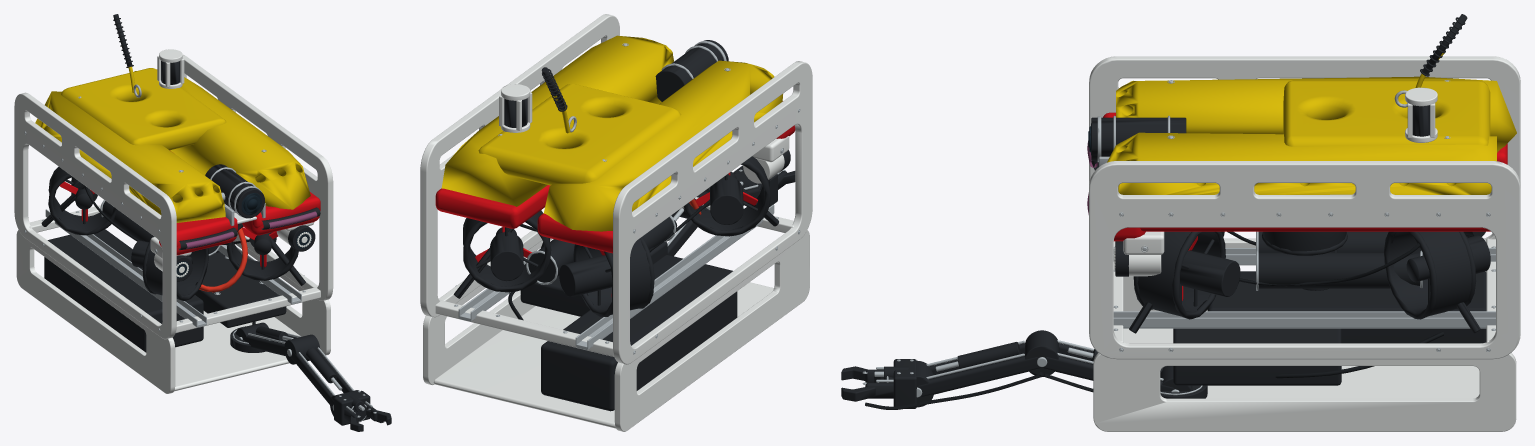
The model's file is falcon_lod1.glb.
3 views of the same model, side by side, from view 1: azimuth 30°, elevation 25°; view 2: azimuth 150°, elevation 25°; view 3: azimuth 270°, elevation 25° (orthographic). The views are drawn at different scales.
Visible parts, largest first — view 1: PP side frame.001, Buoyancy rear bridge, Sculpted buoyancy shoulder, Sculpted buoyancy shoulder.001, Manipulator skid side.001, Skid hydraulic power unit, PP side frame, Manipulator skid bottom, Skid manifold enclosure, Manipulator skid side, PP cross frame.001, Black forward camera pressure tube (+20 smaller); view 2: PP side frame.001, Buoyancy rear bridge, Sculpted buoyancy shoulder.001, Skid hydraulic power unit, Sculpted buoyancy shoulder, Manipulator skid side.001, Manipulator skid bottom, PP side frame, Manipulator skid side, Red longitudinal deck, PP cross frame, Black forward camera pressure tube (+23 smaller); view 3: PP side frame, Manipulator skid side, PP side frame.001, Buoyancy rear bridge, Sculpted buoyancy shoulder, Sculpted buoyancy shoulder.001, Skid hydraulic power unit, Manipulator skid bottom, Skid manifold enclosure, Lower pressure housing, T3 open duct, Lower channel flange (+18 smaller).
Part boxes in pixels (bbox=[...]): PP side frame.001: bbox=[14, 92, 176, 339]; Buoyancy rear bridge: bbox=[61, 68, 226, 150]; Sculpted buoyancy shoulder: bbox=[134, 69, 310, 209]; Sculpted buoyancy shoulder.001: bbox=[35, 91, 225, 222]; Manipulator skid side.001: bbox=[16, 230, 175, 393]; Skid hydraulic power unit: bbox=[44, 229, 203, 352]; PP side frame: bbox=[182, 54, 333, 300]; Manipulator skid bottom: bbox=[174, 311, 300, 391]; Skid manifold enclosure: bbox=[195, 252, 286, 327]; Manipulator skid side: bbox=[210, 239, 330, 355]; PP cross frame.001: bbox=[175, 287, 320, 332]; Black forward camera pressure tube: bbox=[205, 164, 264, 218]; PP side frame.001: bbox=[613, 61, 812, 364]; Buoyancy rear bridge: bbox=[478, 83, 681, 185]; Sculpted buoyancy shoulder.001: bbox=[543, 60, 782, 231]; Skid hydraulic power unit: bbox=[541, 255, 737, 411]; Sculpted buoyancy shoulder: bbox=[441, 35, 673, 206]; Manipulator skid side.001: bbox=[614, 230, 809, 431]; Manipulator skid bottom: bbox=[433, 282, 773, 428]; PP side frame: bbox=[420, 14, 619, 317]; Manipulator skid side: bbox=[423, 238, 552, 385]; Red longitudinal deck: bbox=[435, 185, 550, 228]; PP cross frame: bbox=[435, 300, 614, 356]; Black forward camera pressure tube: bbox=[655, 40, 728, 101]; PP side frame: bbox=[1089, 161, 1520, 359]; Manipulator skid side: bbox=[1093, 353, 1516, 431]; PP side frame.001: bbox=[1089, 56, 1520, 247]; Buoyancy rear bridge: bbox=[1283, 80, 1490, 146]; Sculpted buoyancy shoulder: bbox=[1107, 132, 1496, 194]; Sculpted buoyancy shoulder.001: bbox=[1116, 76, 1516, 152]; Skid hydraulic power unit: bbox=[1207, 271, 1486, 343]; Manipulator skid bottom: bbox=[1123, 328, 1479, 398]; Skid manifold enclosure: bbox=[1173, 328, 1341, 385]; Lower pressure housing: bbox=[1258, 252, 1419, 288]; T3 open duct: bbox=[1389, 231, 1471, 316]; Lower channel flange: bbox=[1113, 317, 1495, 327].
Bounding box in the file's own units: 0.602 × 0.9339 × 1.57.
